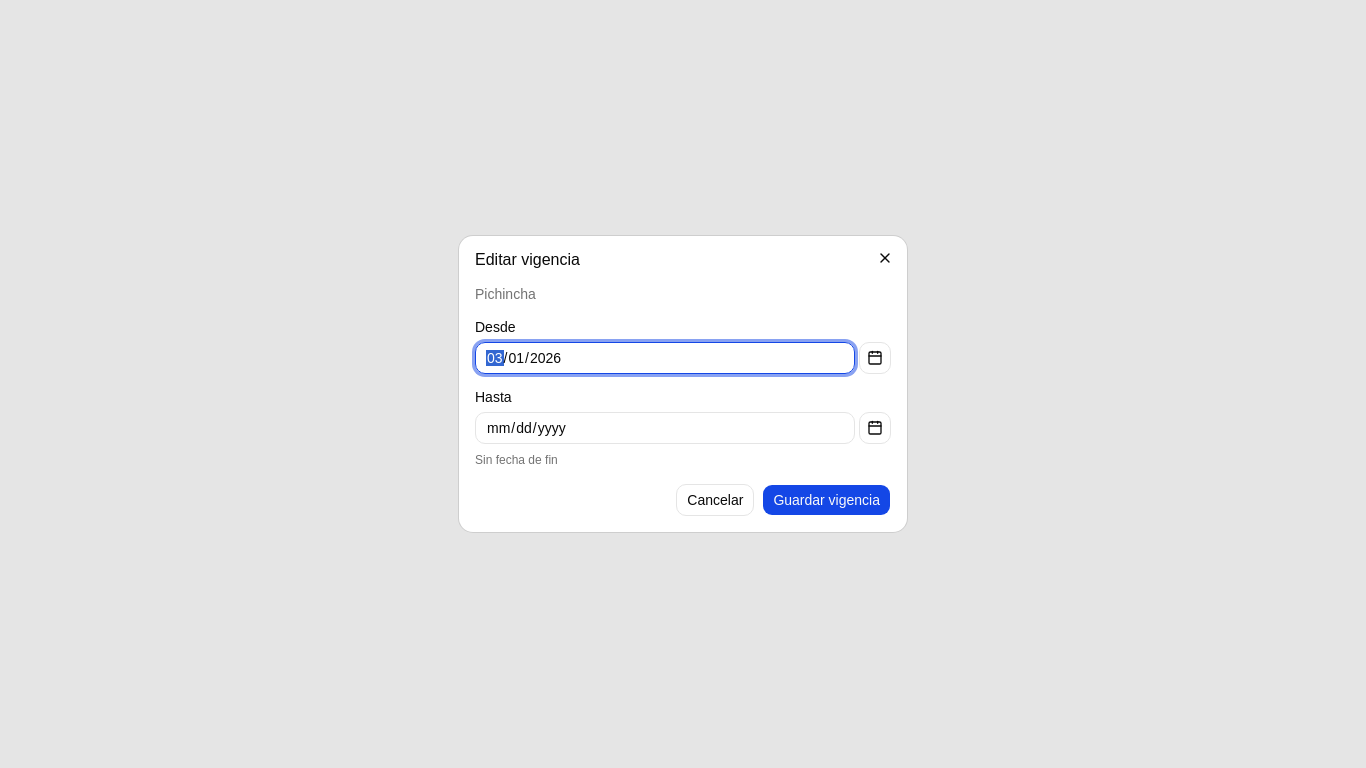
Test: GeoAssignmentValidityDialog — ESAVI-USERGEO-004 › un validTo anterior a validFrom se detiene en el cliente: no hay petición
This screenshot has width=1366, height=768.
In the date field labelled "Hasta": [665, 428] box 475,412 -> 855,444, type "2026-02-01"
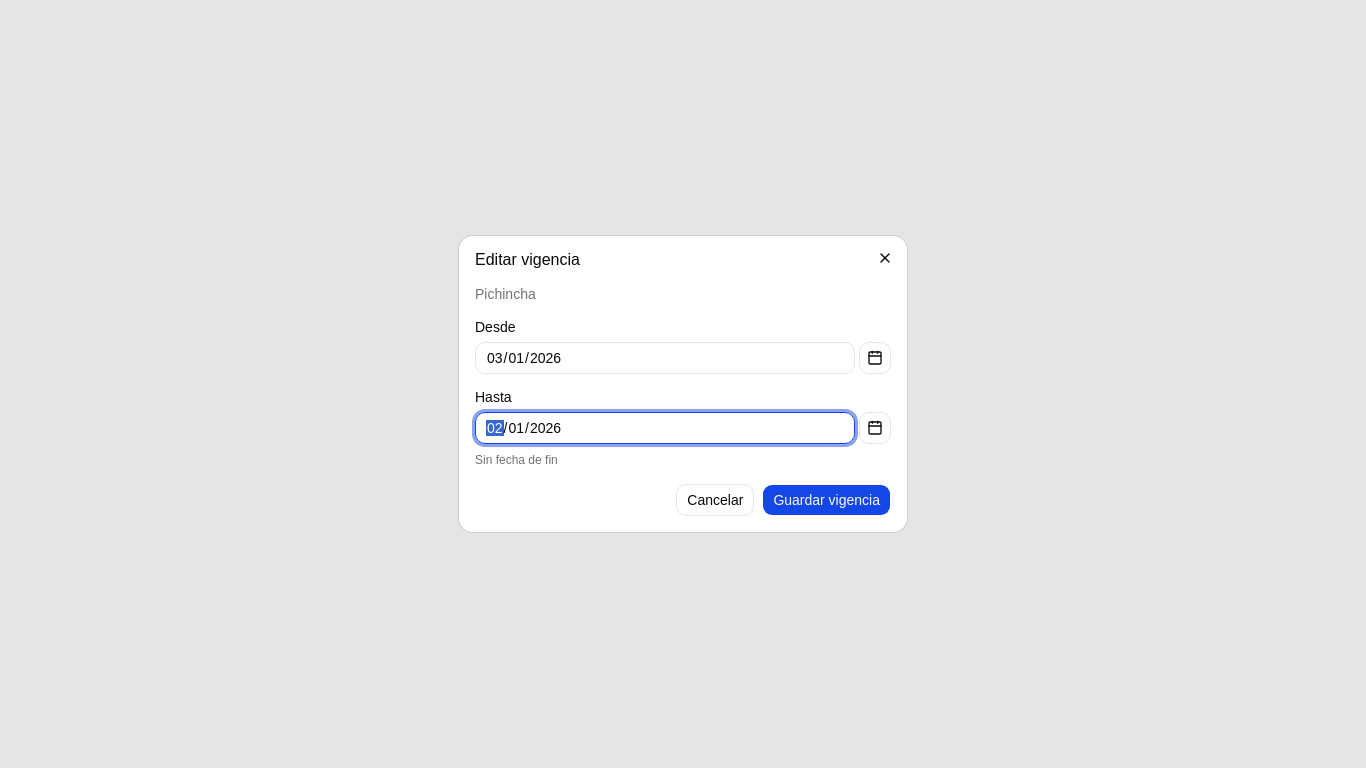
Click the button "Guardar vigencia": [827, 500] box 762,484 -> 891,516
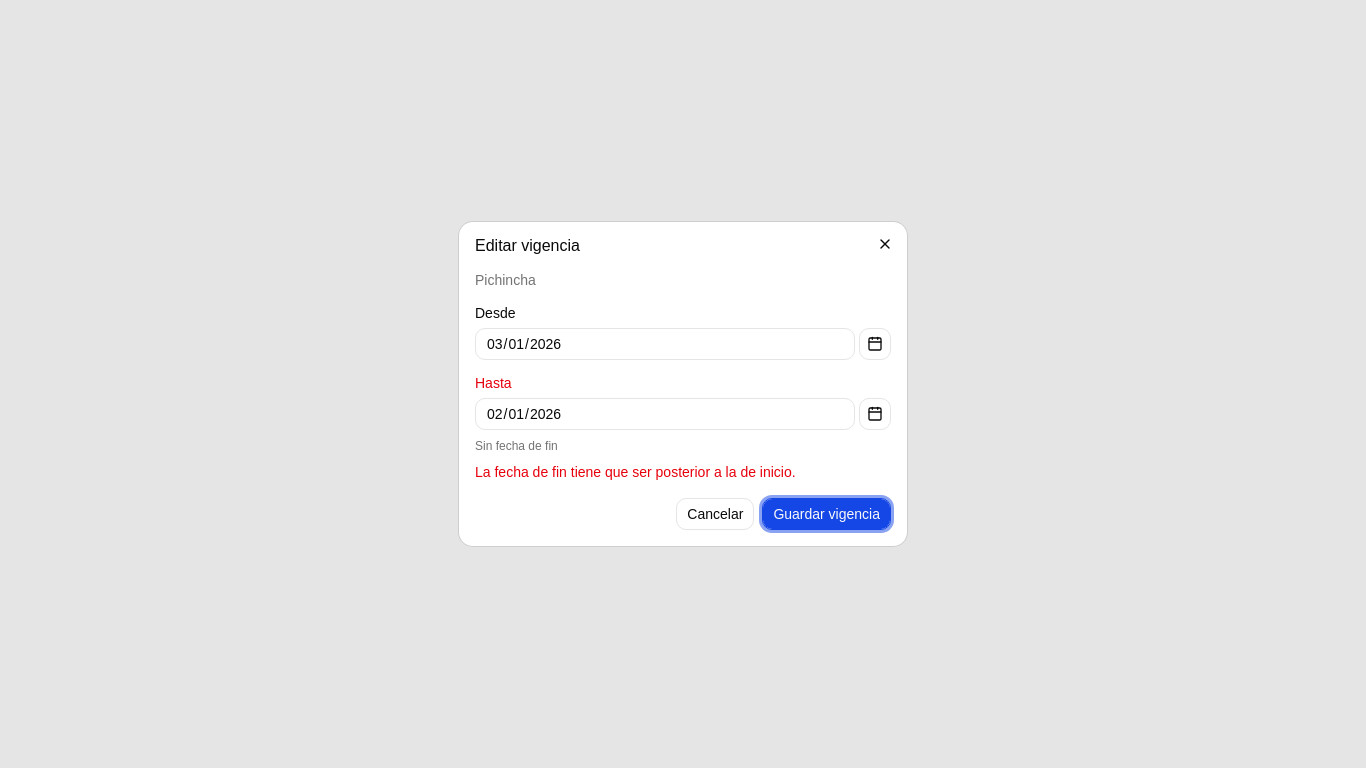
Check: the text "La fecha de fin tiene que ser posterior a la de inicio." is shown, box 475,464 -> 796,480
